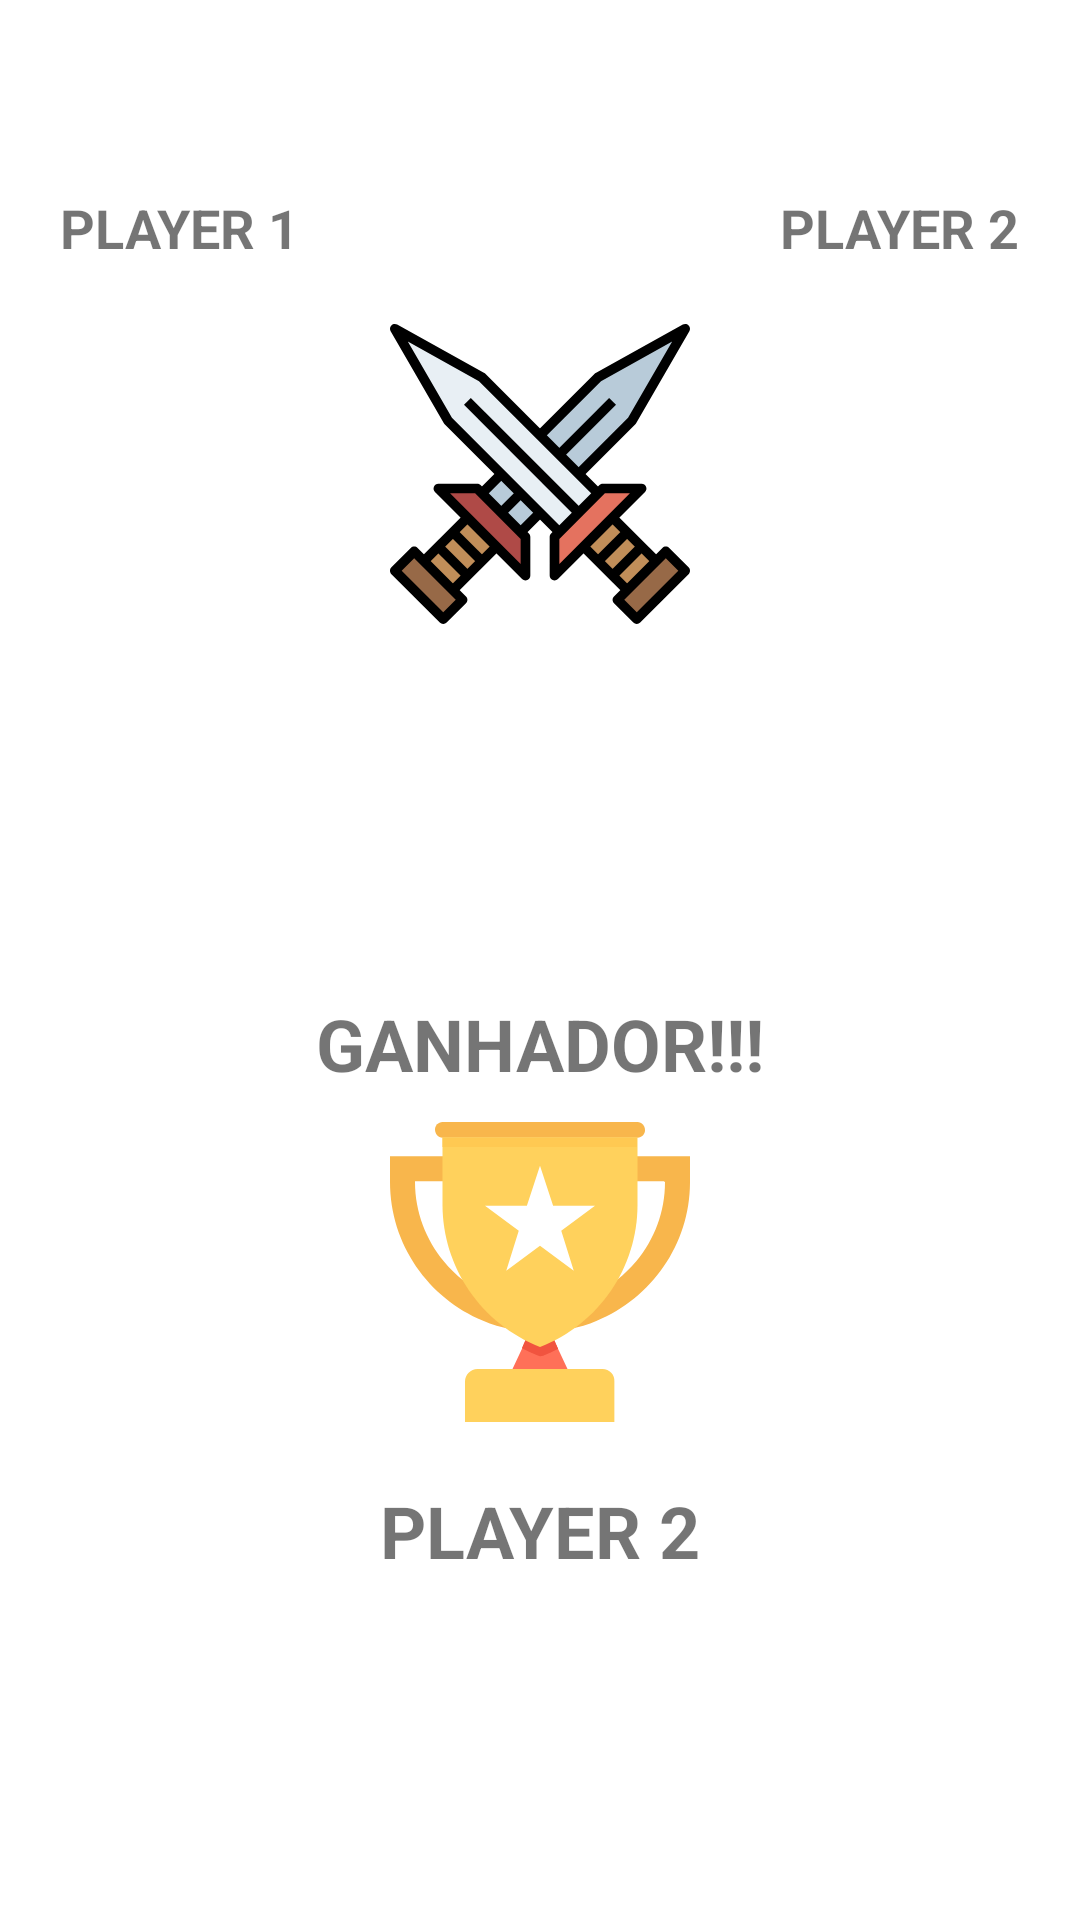

Where to tap for icons on this 1080px x 1920px app screen, as (x=x, y=y):
cup: (x=540, y=1272)
war: (x=540, y=474)
